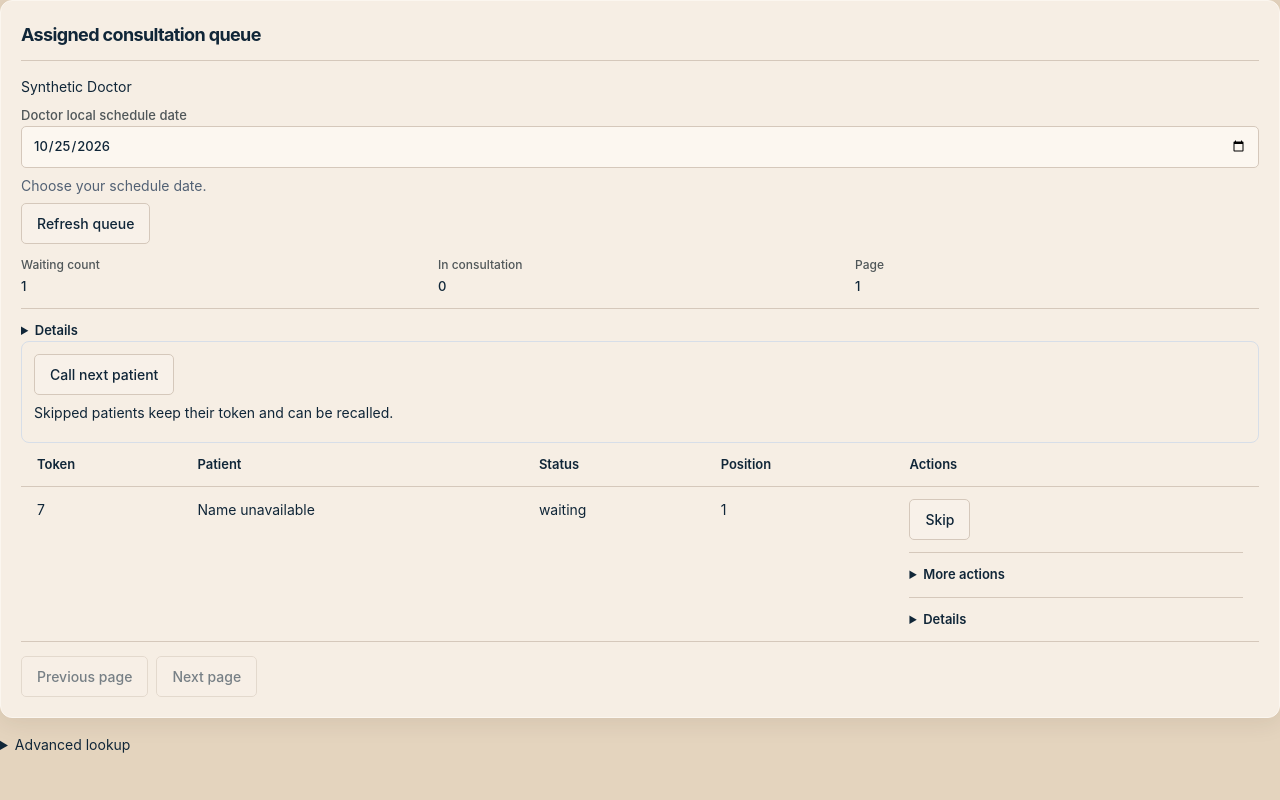
doctor consultation queue › loads assigned queue, starts the current server-selected head and links to consultations
Expected: the text "Waiting count" is shown, top-left (21, 256), bottom-right (100, 272)
Expected: the column heading "Patient" is shown, top-left (182, 442), bottom-right (523, 486)
Click the button "Call next patient" at (104, 374), box top-left (34, 354), bottom-right (174, 394)
(page scrolled)
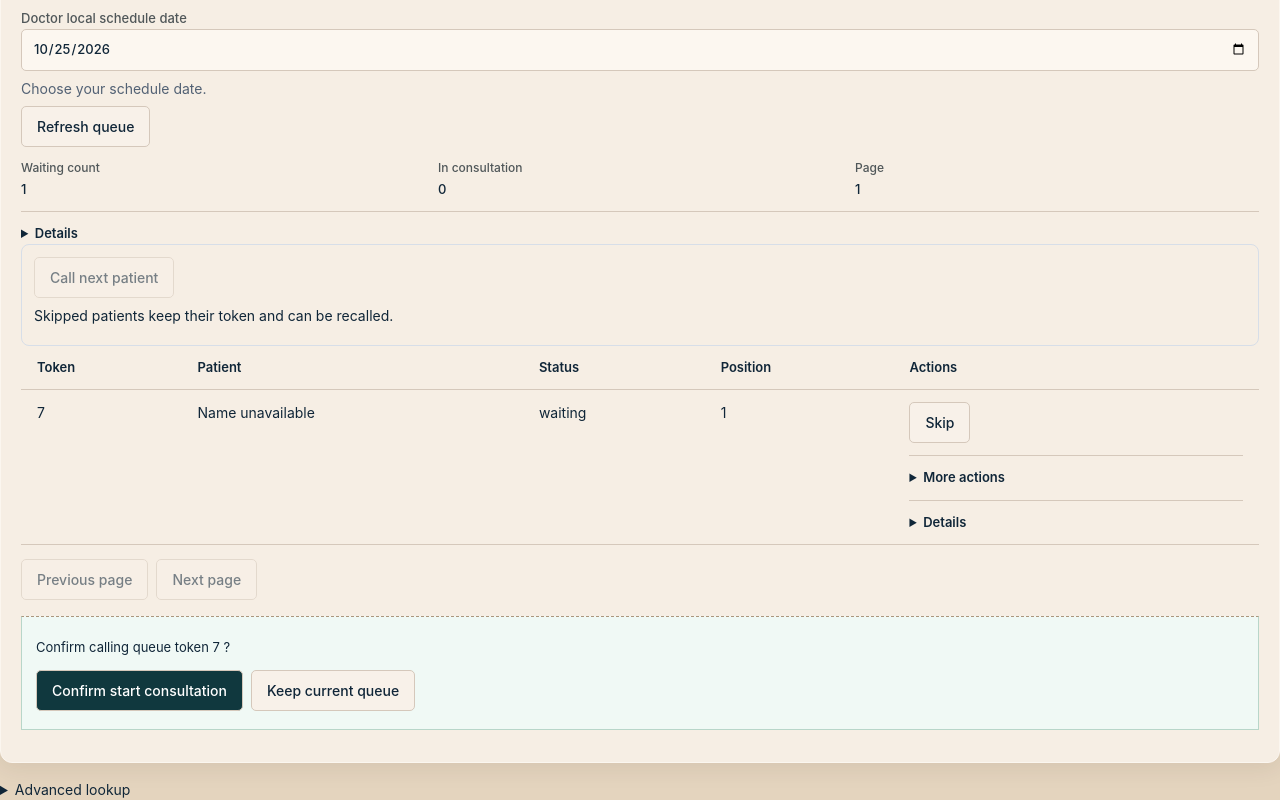
Click the button "Confirm start consultation" at (139, 690), box top-left (36, 670), bottom-right (243, 710)
(page scrolled)
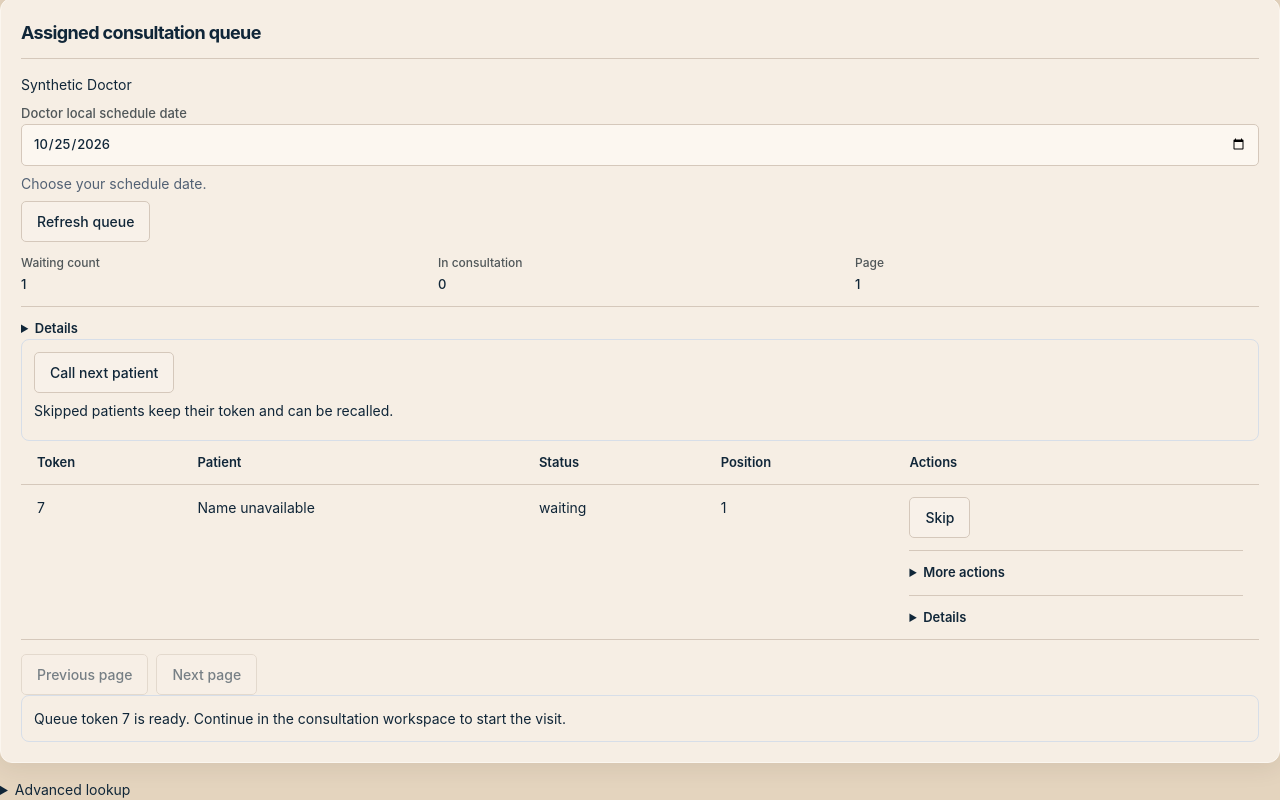
Result: the text "Queue token 7 is ready" is shown at top-left (21, 695), bottom-right (1259, 742)
